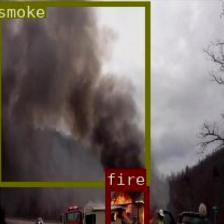fire: (105, 185, 148, 224)
smoke: (0, 0, 149, 185)
